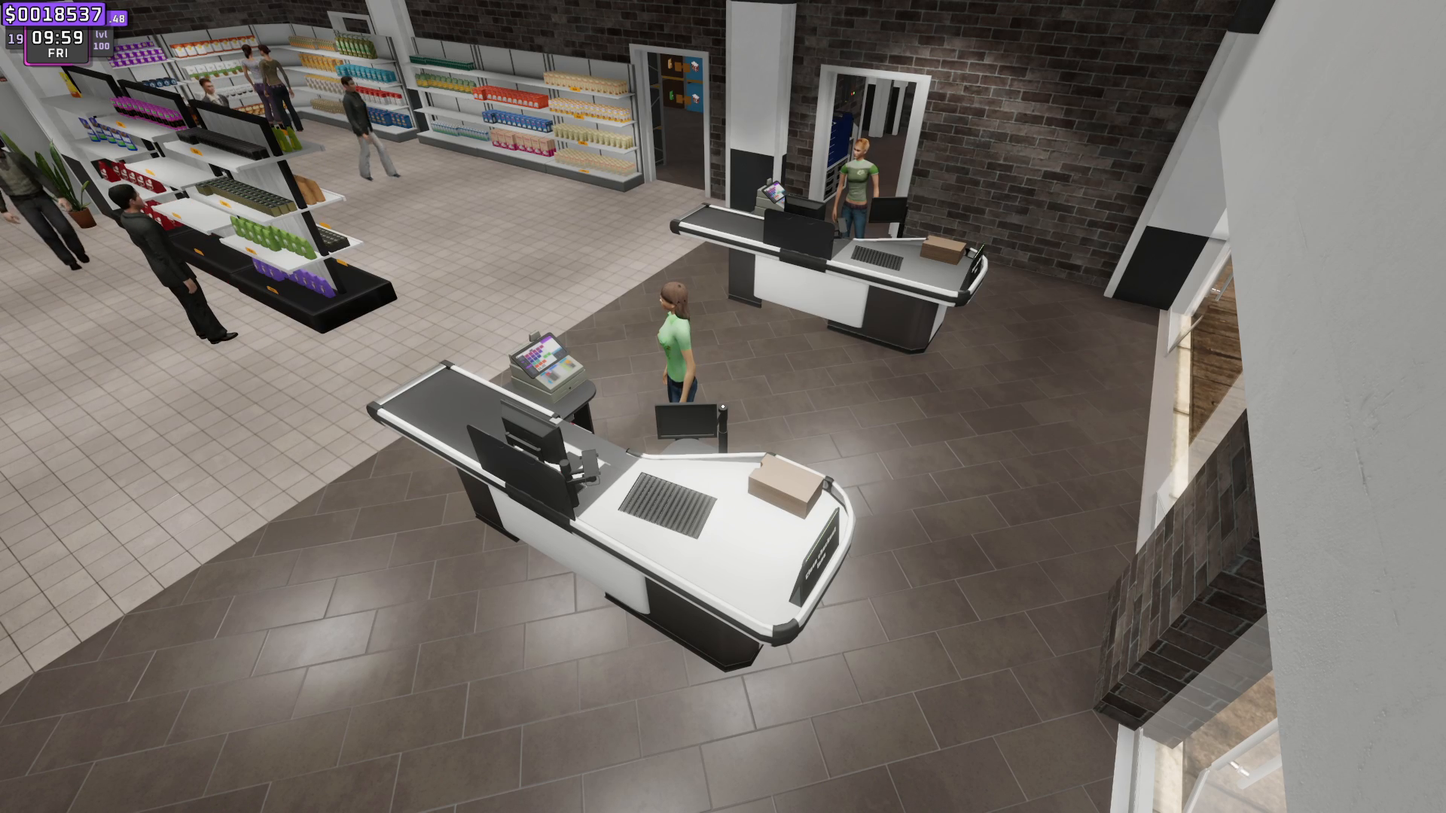Employee: (652, 276, 703, 396), (846, 141, 878, 230)
